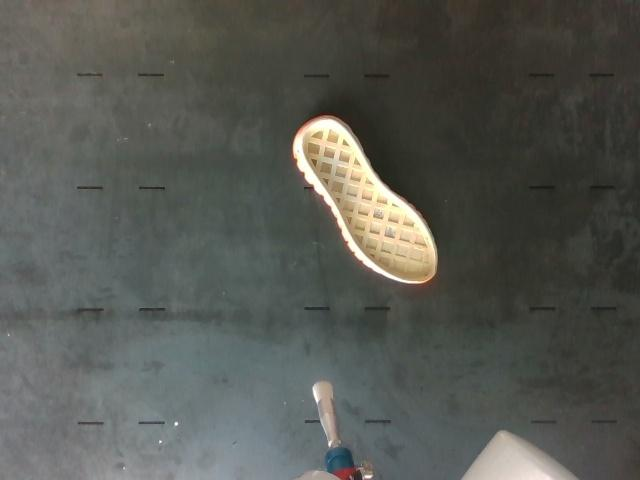shoes: (301, 118, 436, 282)
